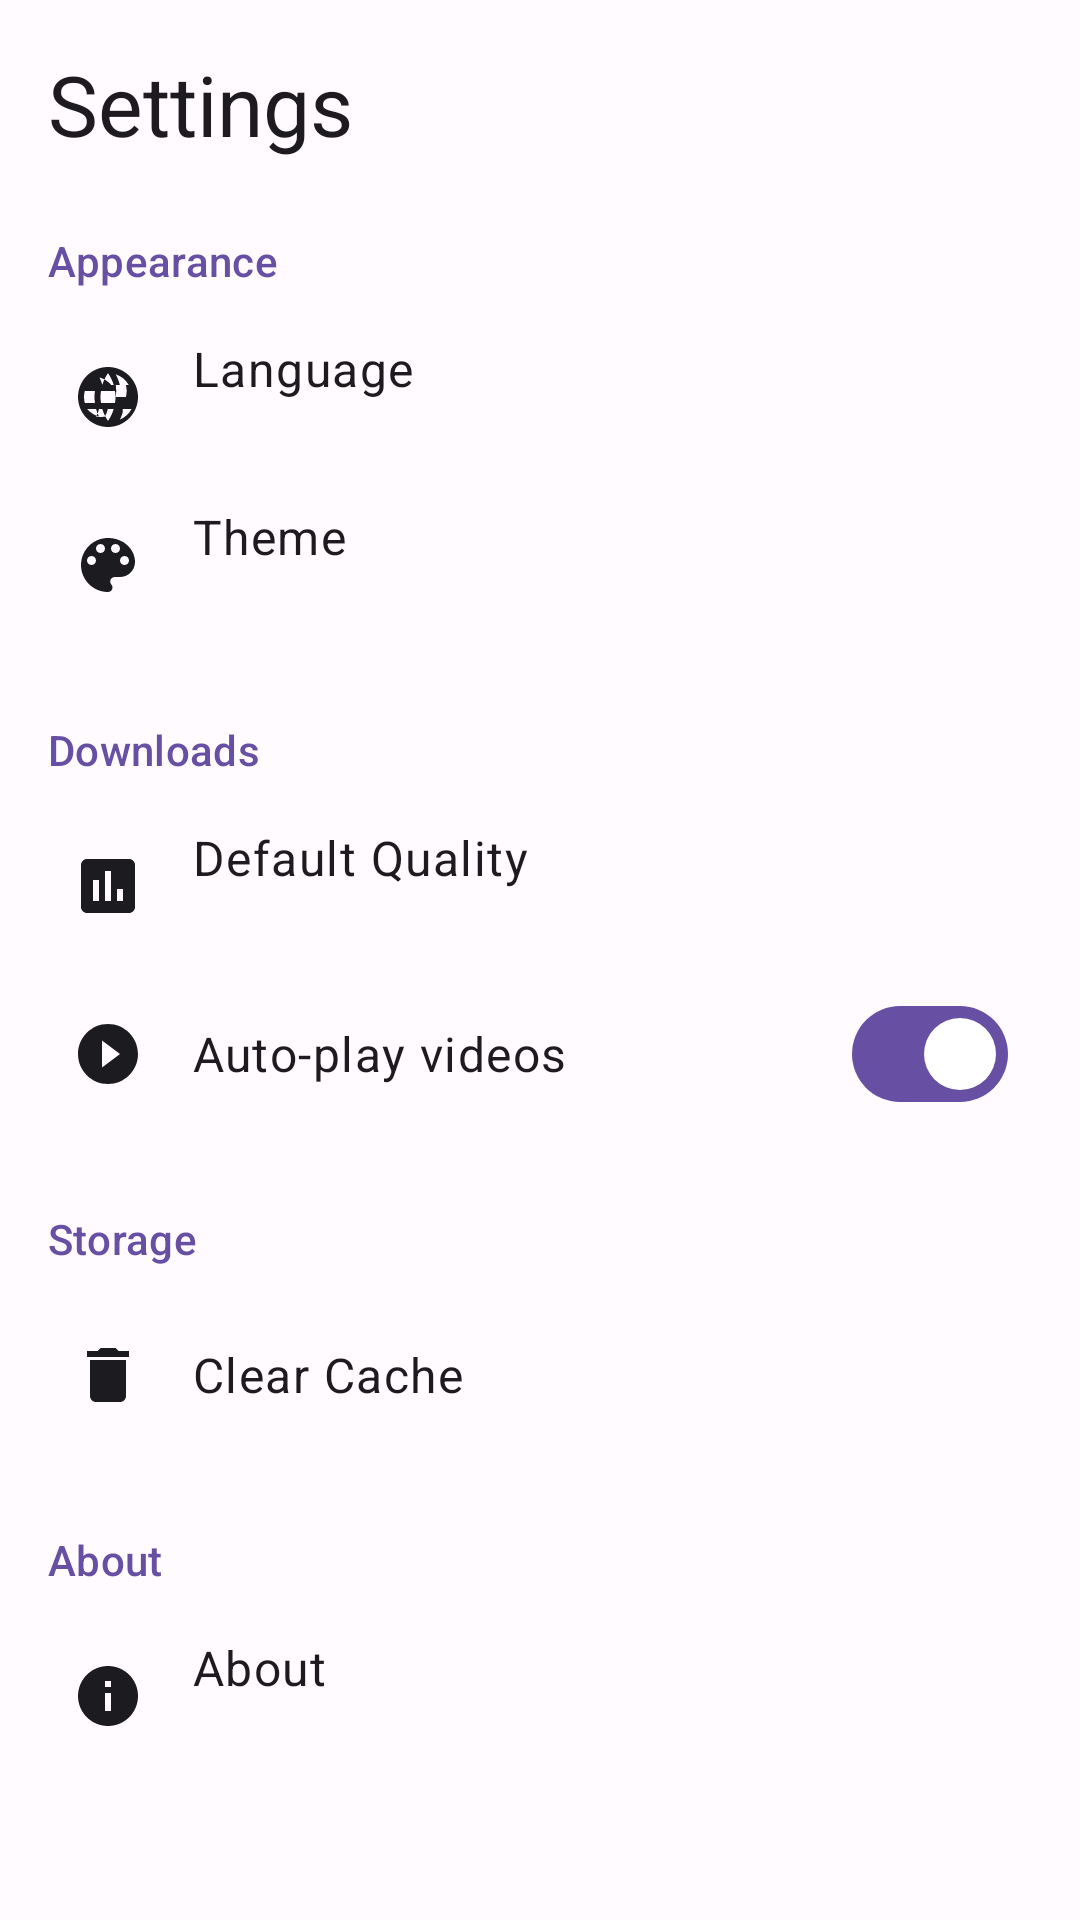

Screen size 1080×1920. Icon name, then its center in pixels as [x,y]:
delete: [108,1375]
info: [108,1696]
